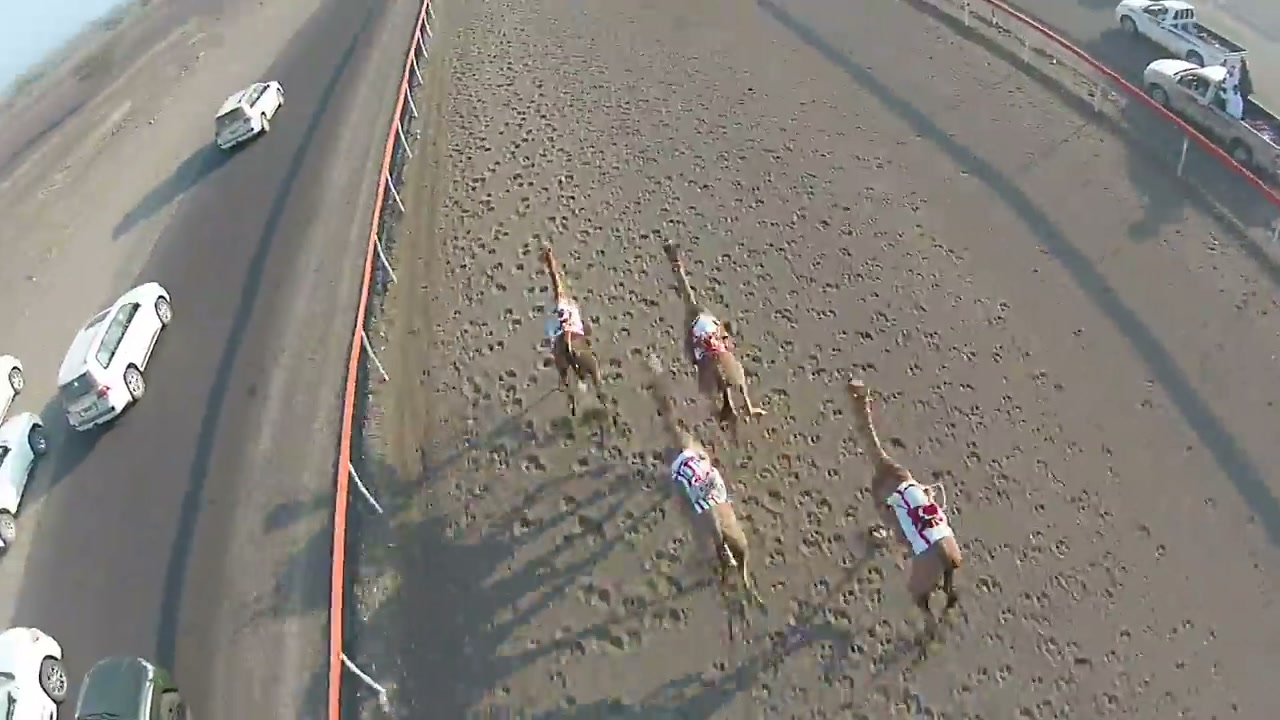animal_footprint: (651, 73, 1082, 693), (437, 58, 666, 715), (636, 146, 886, 697), (551, 128, 709, 640)
